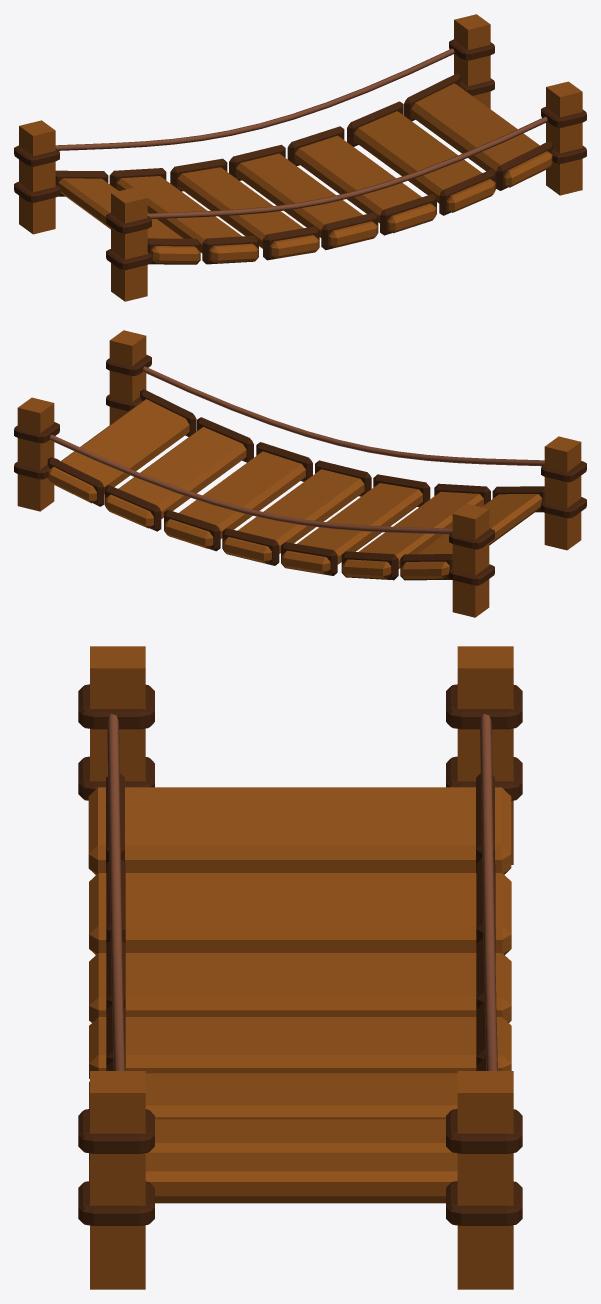
Rendered from bridge.glb.
The picture shows the model from 3 angles, top to bottom: view 1: azimuth 30°, elevation 25°; view 2: azimuth 150°, elevation 25°; view 3: azimuth 270°, elevation 25°; orthographic projection. The views are drawn at different scales.
Parts seen in each view (by area): view 1: Cube.021, Cube.001, Cube.016, BézierCurve, Cube.010; view 2: Cube.021, Cube.001, Cube.016, BézierCurve, Cube.010; view 3: Cube.021, Cube.001, Cube.010, BézierCurve, Cube.016.
Boxes of the visible parts, <box> form: Cube.021: <box>58,83,552,263</box>; Cube.001: <box>19,14,582,301</box>; Cube.016: <box>55,73,553,264</box>; BézierCurve: <box>55,48,547,218</box>; Cube.010: <box>14,39,586,269</box>; Cube.021: <box>48,399,542,578</box>; Cube.001: <box>17,330,581,617</box>; Cube.016: <box>47,389,544,580</box>; BézierCurve: <box>50,366,544,534</box>; Cube.010: <box>14,354,586,585</box>; Cube.021: <box>88,787,511,1203</box>; Cube.001: <box>90,646,513,1289</box>; Cube.010: <box>78,684,522,1225</box>; BézierCurve: <box>107,713,497,1070</box>; Cube.016: <box>106,773,495,1070</box>.
Size of the model in its own units: 5.42 by 1.13 by 2.23.
